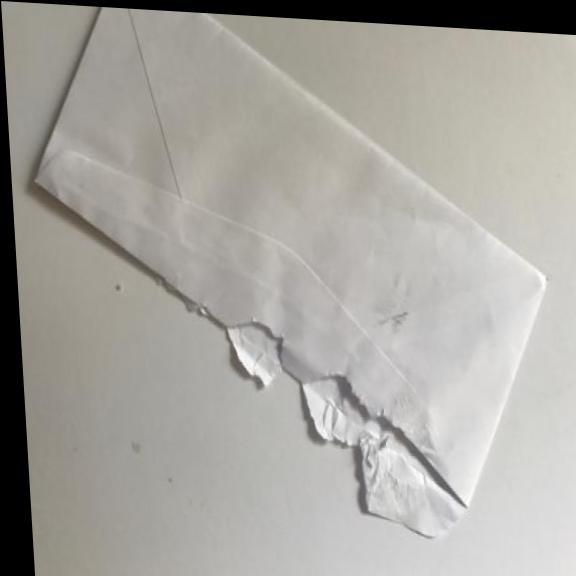Kertas: (22, 1, 565, 553)
